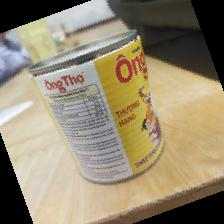Ong_tho: (28, 30, 167, 185)
